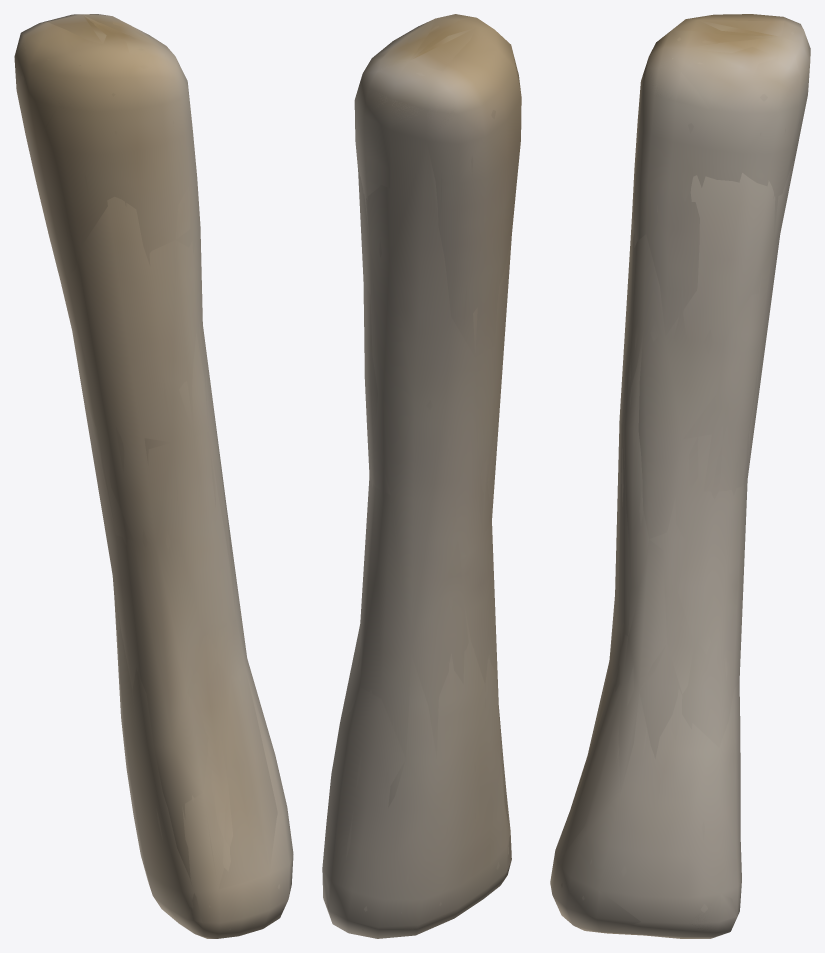
File: R metatarsi secundum.fbx
3 views of the same model, side by side, from view 1: azimuth 30°, elevation 25°; view 2: azimuth 150°, elevation 25°; view 3: azimuth 270°, elevation 25° (orthographic). The views are drawn at different scales.
Parts seen in each view (by area): view 1: R metatarsi secundum low, R metatarsi secundum, R metatarsi secundum high; view 2: R metatarsi secundum, R metatarsi secundum low, R metatarsi secundum high; view 3: R metatarsi secundum, R metatarsi secundum low, R metatarsi secundum high.
Part boxes in pixels (<box>): R metatarsi secundum low: <box>16,14,290,934</box>; R metatarsi secundum: <box>14,14,293,938</box>; R metatarsi secundum high: <box>21,18,290,929</box>; R metatarsi secundum: <box>322,14,521,938</box>; R metatarsi secundum low: <box>322,14,521,937</box>; R metatarsi secundum high: <box>331,17,509,930</box>; R metatarsi secundum: <box>550,14,810,938</box>; R metatarsi secundum low: <box>552,16,807,935</box>; R metatarsi secundum high: <box>561,31,799,929</box>.
Size of the model in its own units: 1.11 by 4.65 by 1.26.
